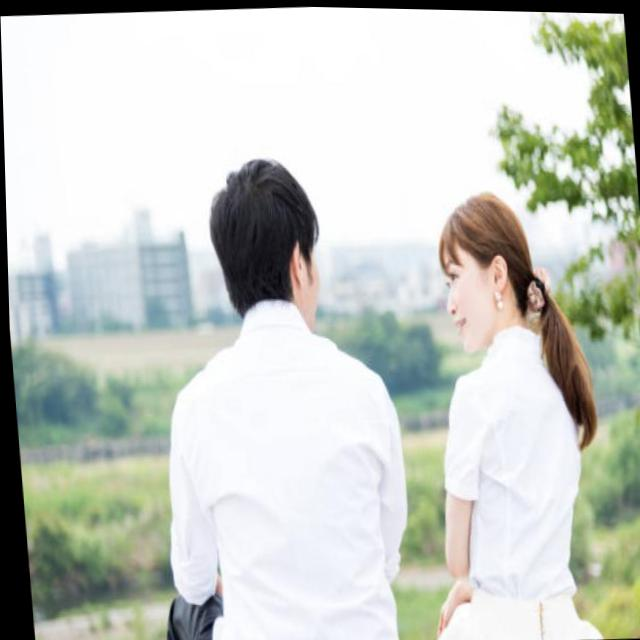no helmet: (202, 150, 333, 335)
